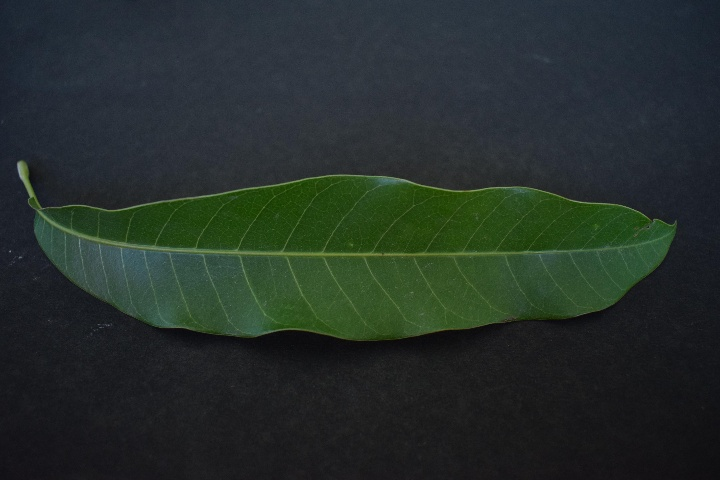healthy: (39, 173, 671, 352)
